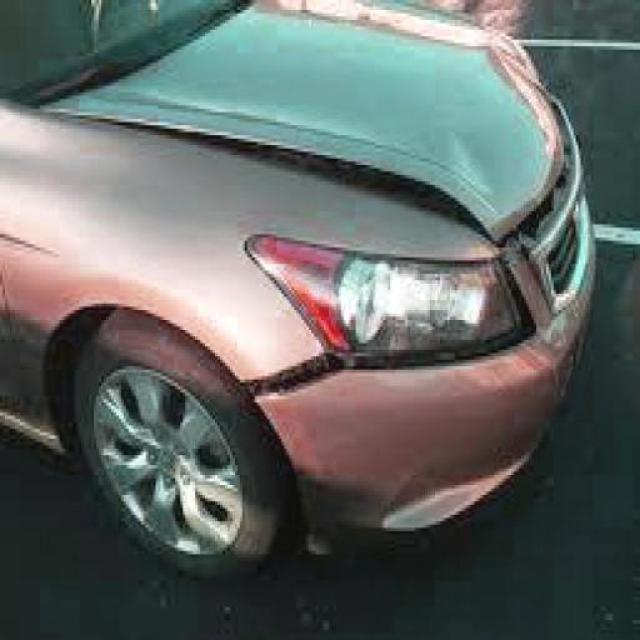car damage: (57, 111, 534, 236), (241, 262, 541, 411), (497, 86, 581, 263)
